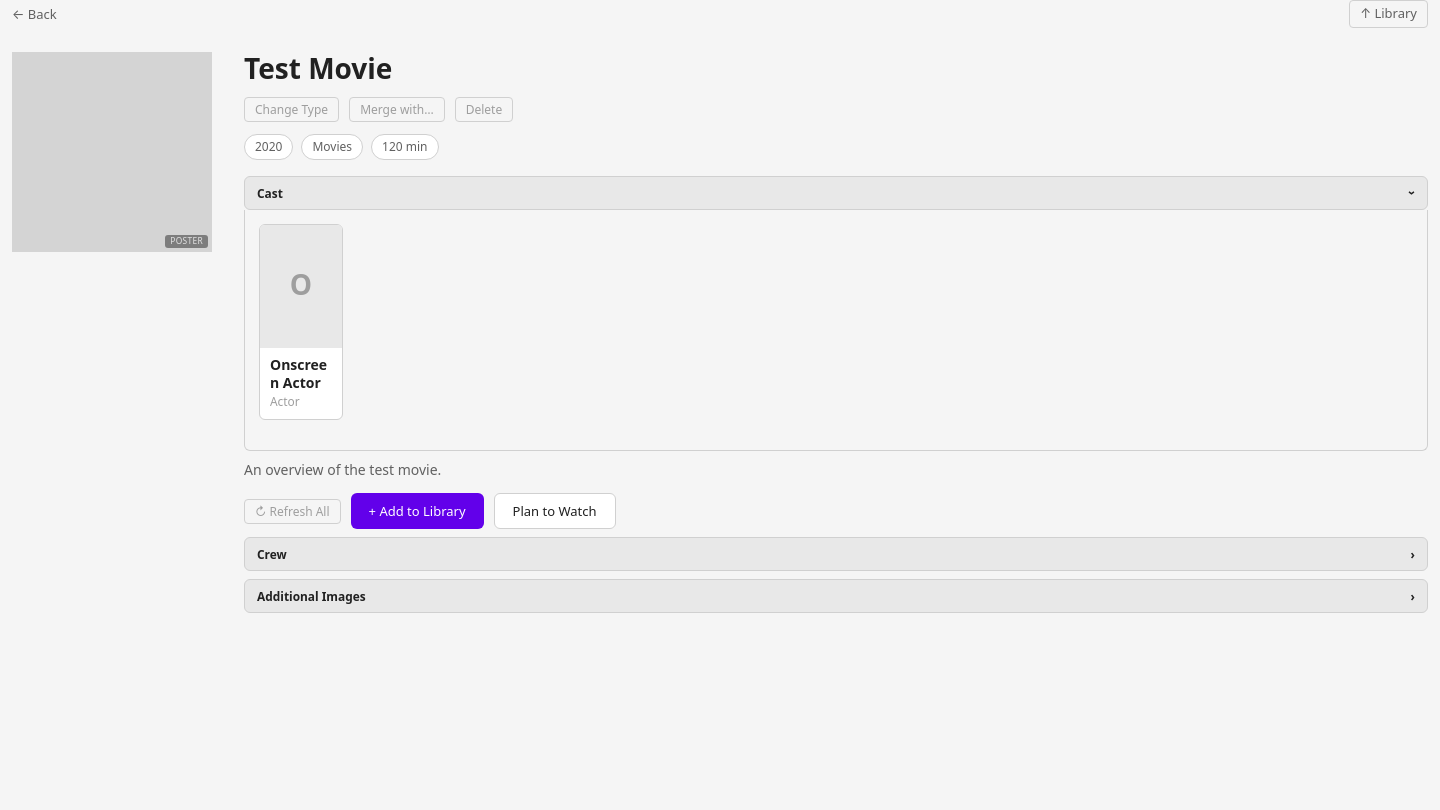
MediaDetailPage › splits on-screen talent (actor) from crew (director) per the 2026-08-30 grouping rule
Expected: the heading "Test Movie" is shown, [244,48,392,86]
Expected: the text "Onscreen Actor" is shown, [270,356,332,391]
Click the button "Crew ›" at (272, 554), box [244,537,1428,571]
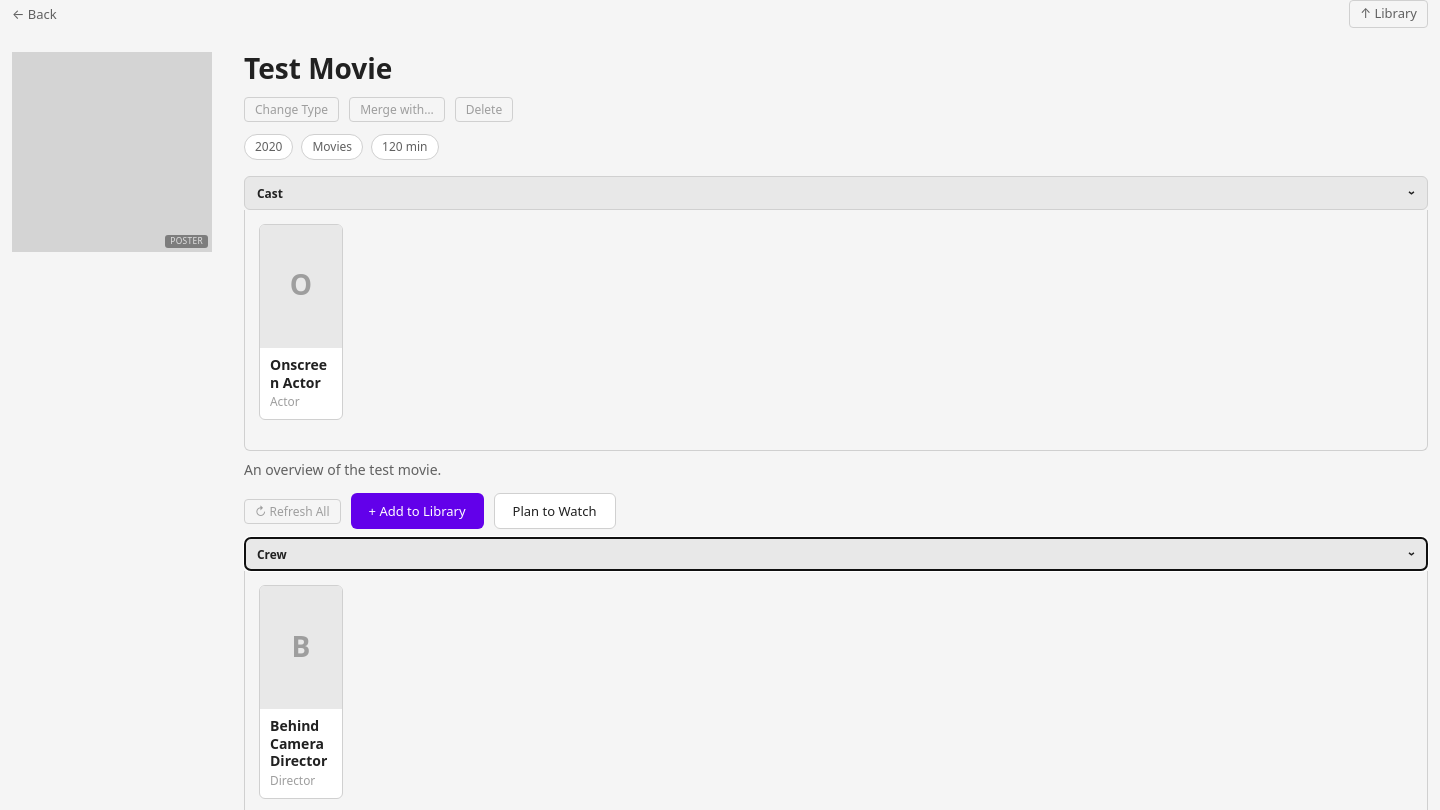
Now the text "Behind Camera Director" is shown, box [270,717,332,770]
